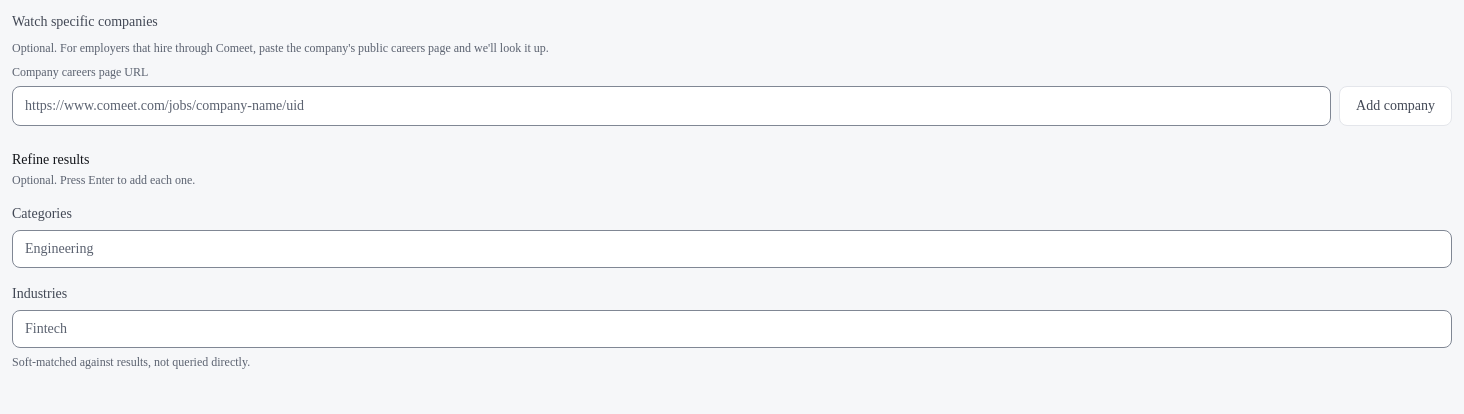
Test case: StepSources › shows the server message when the lookup fails
The width and height of the screenshot is (1464, 414).
Type "https://x.test" into the field labelled "Company careers page URL".
click(672, 106); type("https://x.test")  # box [12, 86, 1331, 126]
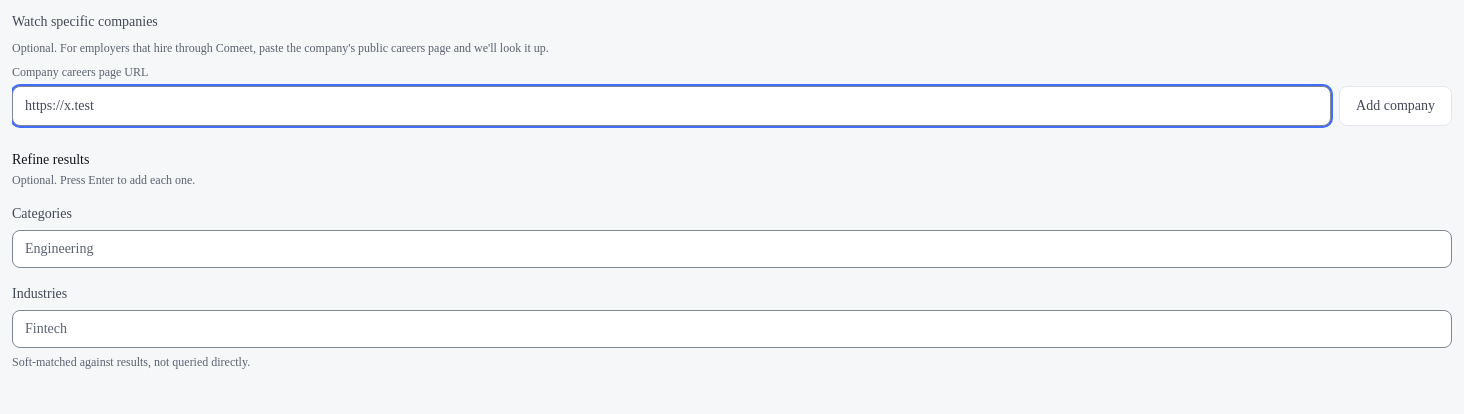
Click the button "Add company".
click(1396, 106)  # box [1339, 86, 1452, 126]
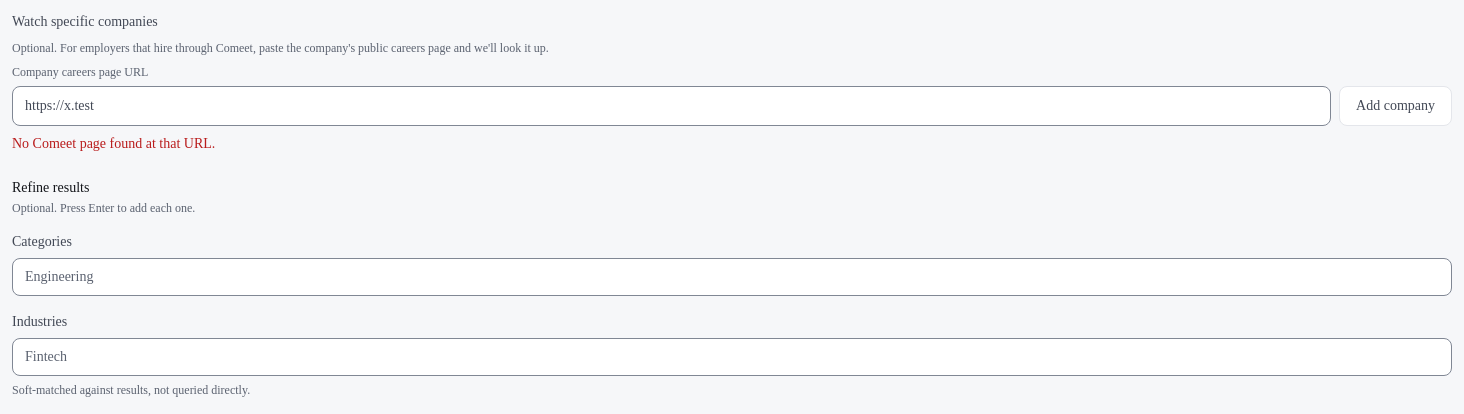
Check: the message reads "No Comeet page found at that URL.", box [12, 136, 215, 151]
